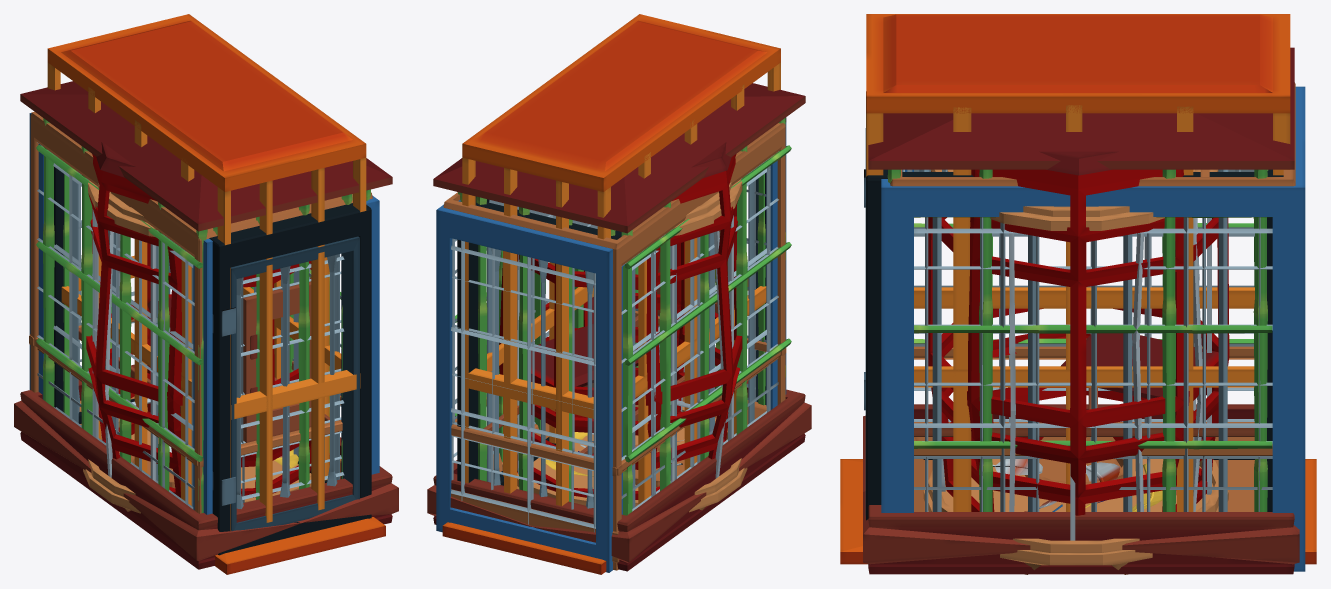
Rendered from Сages.fbx.
3 views of the same model, side by side, from view 1: azimuth 30°, elevation 25°; view 2: azimuth 150°, elevation 25°; view 3: azimuth 270°, elevation 25° (orthographic). The views are drawn at different scales.
Parts seen in each view (by area): view 1: cage_5, cage_2, cage_3, cage_1, cage_6, cage_4, cage_7; view 2: cage_5, cage_2, cage_4, cage_1, cage_6, cage_3, cage_7; view 3: cage_2, cage_5, cage_4, cage_6, cage_1, cage_7, cage_3.
Boxes of the visible parts, left/top/right/bottom form: cage_5: left=47, top=14, right=385, bottom=574; cage_2: left=14, top=81, right=398, bottom=569; cage_3: left=54, top=167, right=371, bottom=555; cage_1: left=29, top=111, right=372, bottom=513; cage_6: left=86, top=142, right=311, bottom=497; cage_4: left=29, top=113, right=379, bottom=514; cage_7: left=83, top=180, right=311, bottom=513; cage_5: left=442, top=14, right=780, bottom=574; cage_2: left=427, top=83, right=811, bottom=571; cage_4: left=436, top=122, right=786, bottom=572; cage_1: left=443, top=123, right=786, bottom=570; cage_6: left=499, top=142, right=742, bottom=499; cage_3: left=457, top=117, right=786, bottom=508; cage_7: left=502, top=179, right=747, bottom=512; cage_2: left=863, top=47, right=1299, bottom=574; cage_5: left=840, top=14, right=1316, bottom=564; cage_4: left=881, top=86, right=1305, bottom=571; cage_6: left=928, top=151, right=1229, bottom=515; cage_1: left=890, top=82, right=1295, bottom=511; cage_7: left=923, top=169, right=1228, bottom=574; cage_3: left=864, top=91, right=1283, bottom=520.
Size of the model in its own units: 1.44 by 2.45 by 2.25.
Materials: 1 (1 with a texture image).
